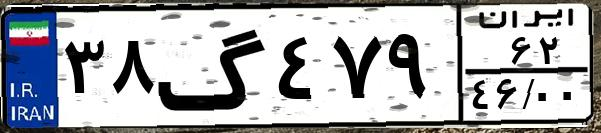0: (560, 70, 590, 125), (535, 70, 560, 125)
2: (537, 27, 568, 80)
3: (57, 26, 110, 100)
4: (270, 28, 330, 110), (470, 70, 495, 125)
6: (508, 27, 537, 80), (495, 70, 520, 125)
7: (330, 28, 385, 110)
8: (110, 28, 156, 98)
9: (385, 28, 445, 110)
گ: (156, 12, 270, 120)
